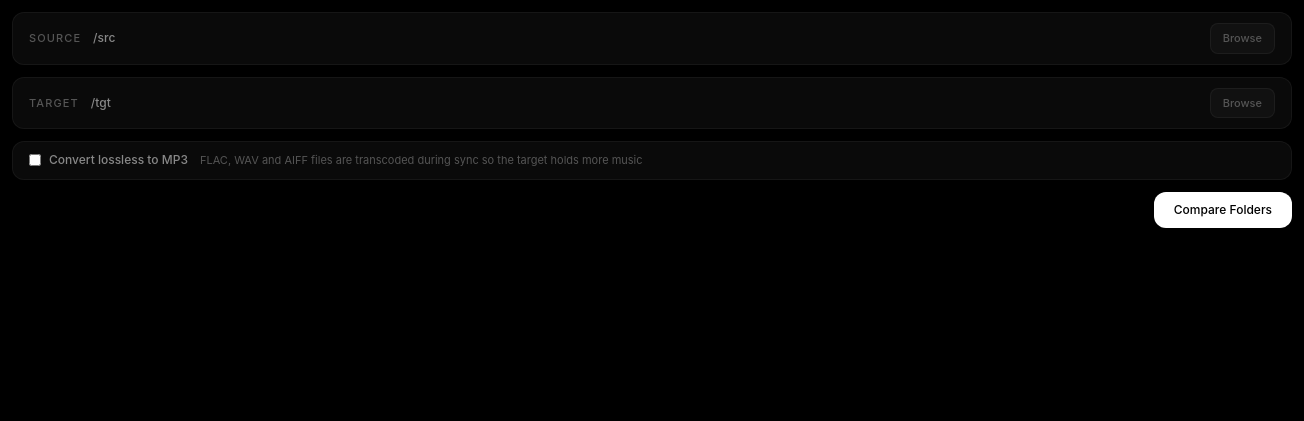
it: SyncManager › transitions to comparison view when Compare is clicked
Click the button "Compare Folders". click: [1223, 210]
box: [1154,192,1292,228]
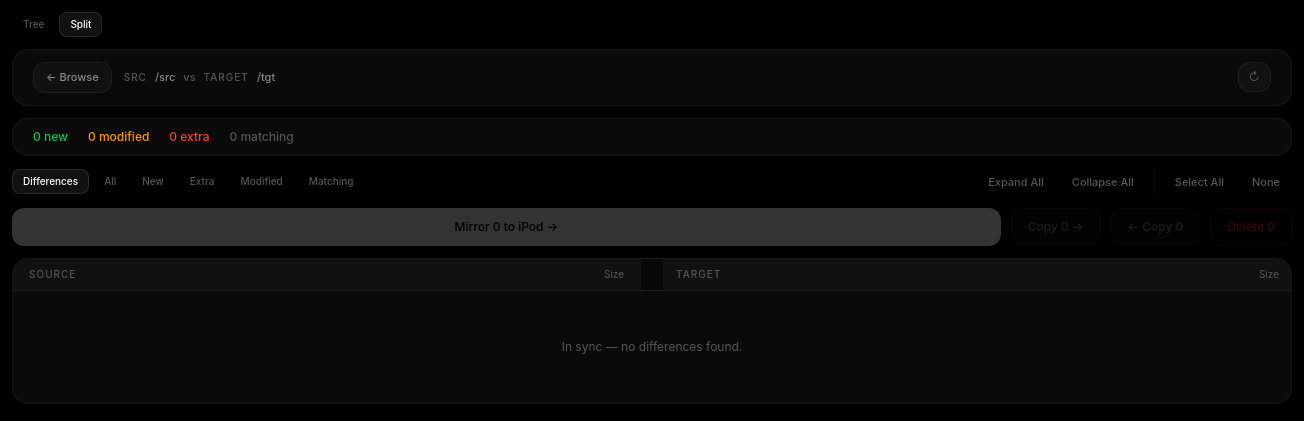
Expected: the button "Tree" is shown, [12,12,55,37]
Expected: the button "Split" is shown, [59,12,102,37]
Expected: the button "Compare Folders" is gone
